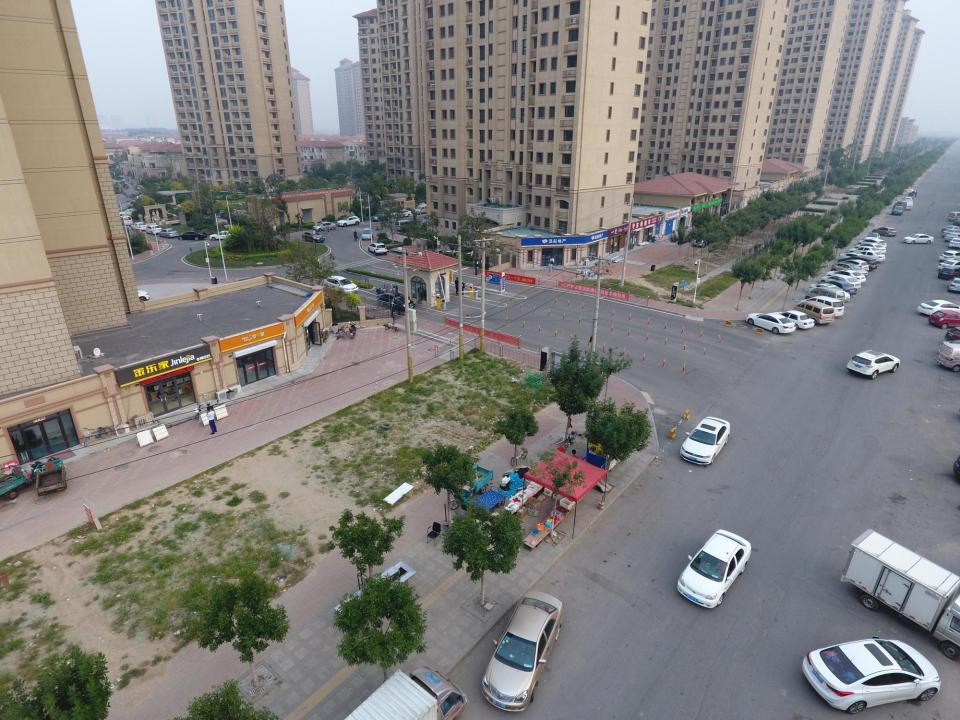car: (483, 590, 562, 710), (806, 639, 940, 708), (676, 530, 752, 610), (682, 416, 730, 465), (849, 349, 900, 376), (747, 308, 797, 332), (772, 303, 816, 328), (378, 288, 416, 312), (810, 280, 850, 302), (323, 275, 359, 297), (937, 339, 960, 372), (818, 277, 855, 296), (917, 300, 960, 316), (830, 266, 867, 284), (840, 253, 878, 270), (835, 260, 868, 278), (929, 308, 960, 327), (843, 256, 871, 272), (856, 240, 886, 254), (856, 248, 886, 262), (903, 232, 935, 244), (840, 248, 867, 262), (849, 242, 875, 256), (302, 228, 324, 244), (861, 235, 887, 247), (210, 229, 238, 240), (178, 230, 206, 241), (368, 240, 387, 256), (312, 220, 338, 231), (941, 264, 960, 279), (946, 274, 960, 293), (873, 225, 897, 236), (940, 249, 960, 262), (694, 233, 711, 248), (337, 215, 360, 226), (372, 209, 390, 222), (938, 260, 960, 270), (159, 228, 178, 238), (392, 209, 412, 218), (941, 225, 960, 234), (948, 236, 960, 249), (943, 231, 960, 240), (146, 224, 161, 234), (132, 221, 148, 230), (362, 227, 372, 241), (867, 231, 879, 241), (952, 215, 960, 225), (905, 195, 912, 203)
truck: (853, 528, 960, 656), (340, 667, 468, 720)
van: (799, 292, 843, 318), (794, 300, 834, 323), (805, 286, 845, 306), (118, 212, 134, 227), (395, 218, 413, 231), (414, 203, 431, 215), (891, 203, 904, 217), (896, 198, 911, 208), (947, 210, 960, 220)
